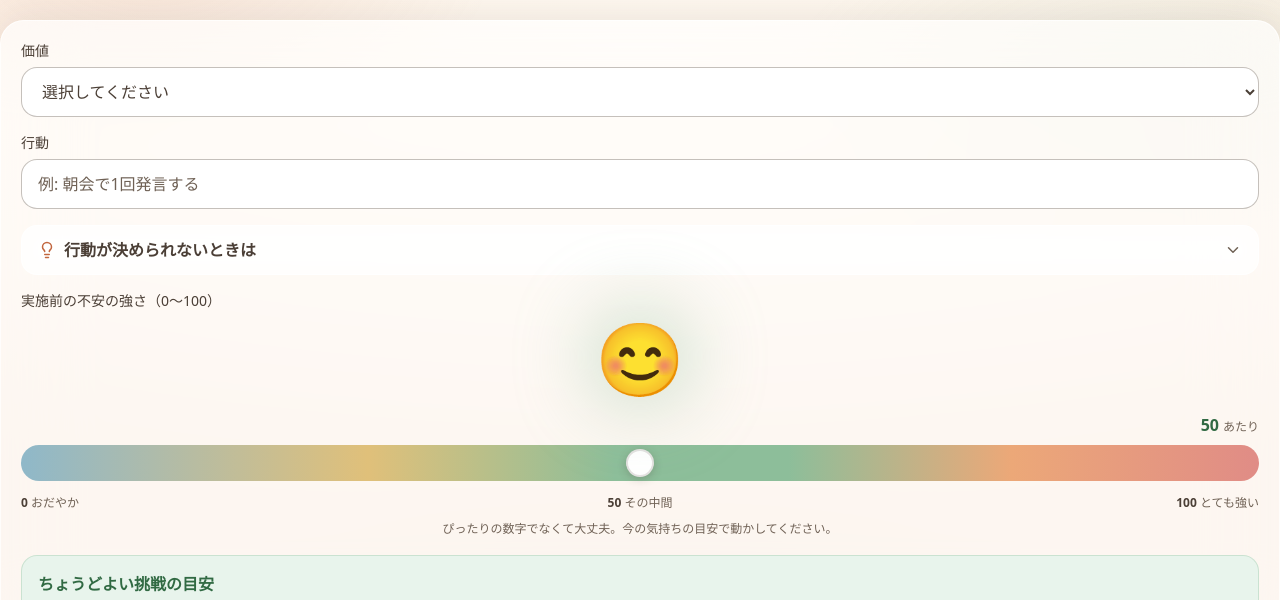
Test case: NewExposurePage › 価値を未選択で送信するとエラーを表示する
Type "朝会で発言する" into the field labelled "行動".
click(640, 184); type("朝会で発言する")  # box [21, 159, 1259, 209]
(page scrolled)
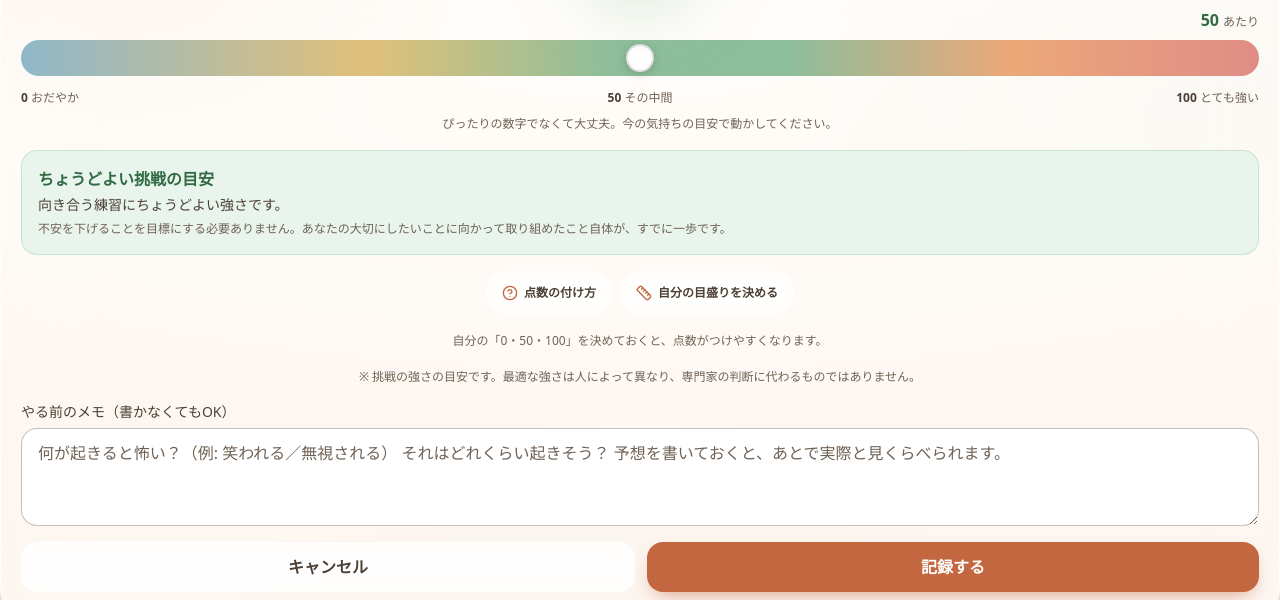
Click the button "記録する".
click(953, 567)  # box [647, 542, 1259, 592]
(page scrolled)
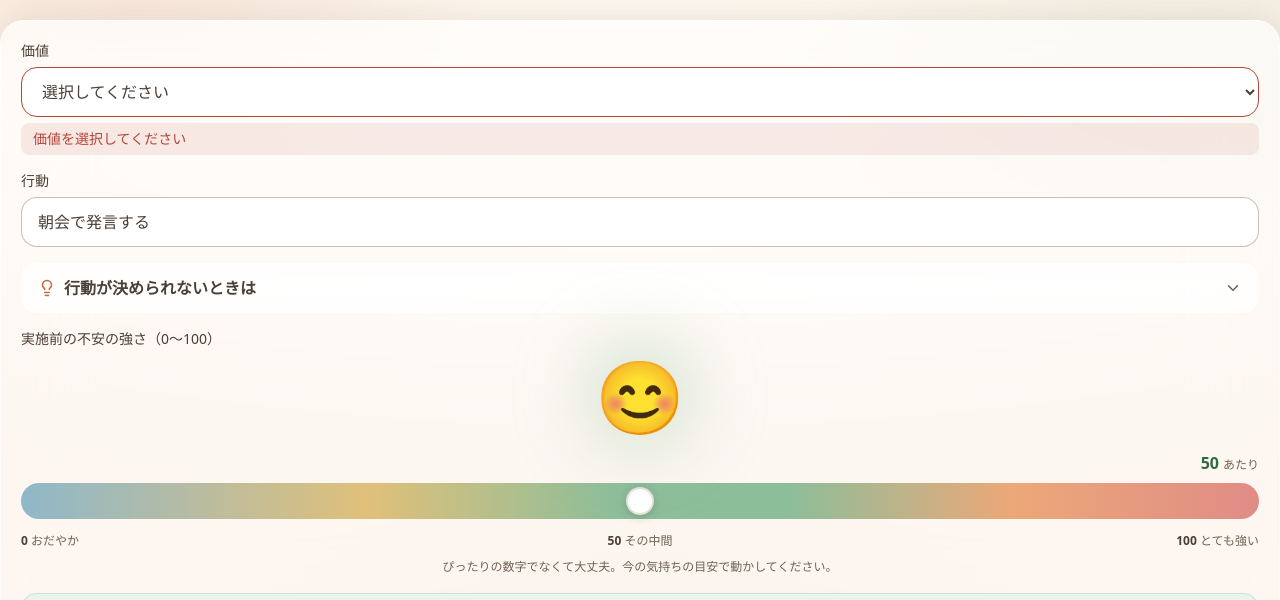
Result: the message "価値を選択してください" is shown at [21, 123, 1259, 155]
